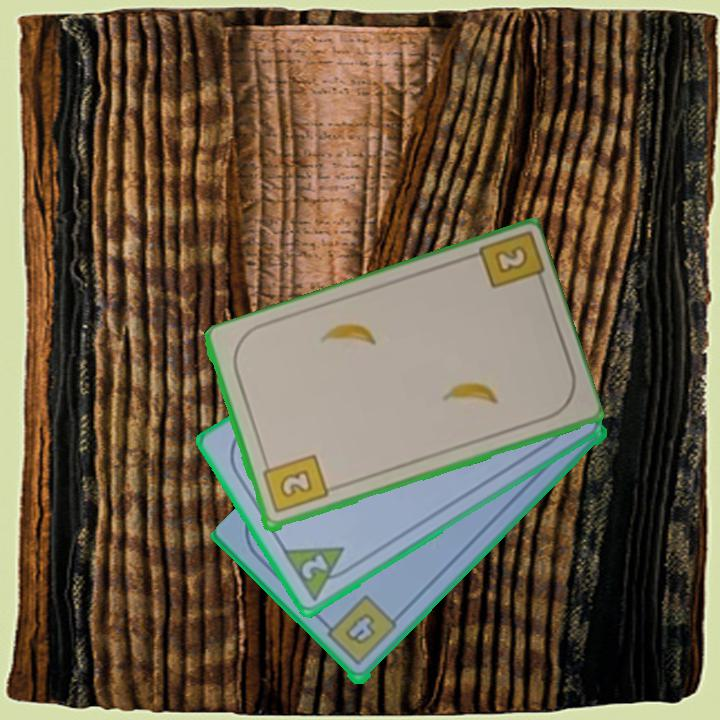2b: (258, 451, 330, 517), (490, 242, 531, 277)
2p: (297, 551, 331, 583)
4b: (319, 592, 400, 669)
